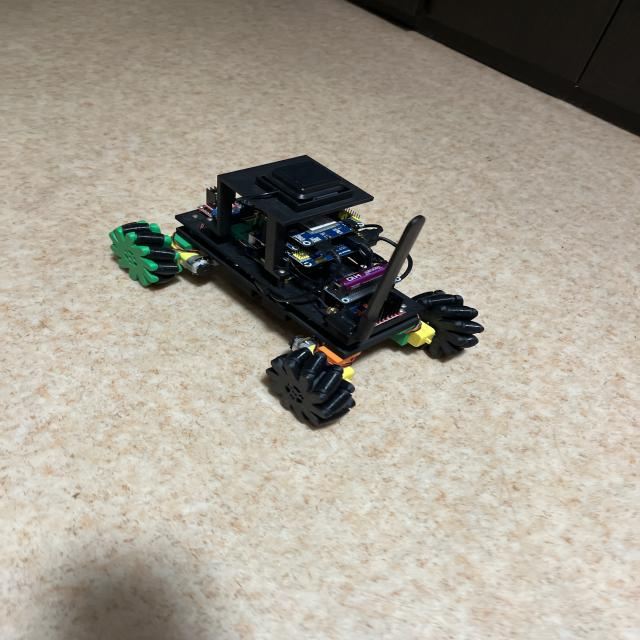robot: (110, 155, 484, 426)
